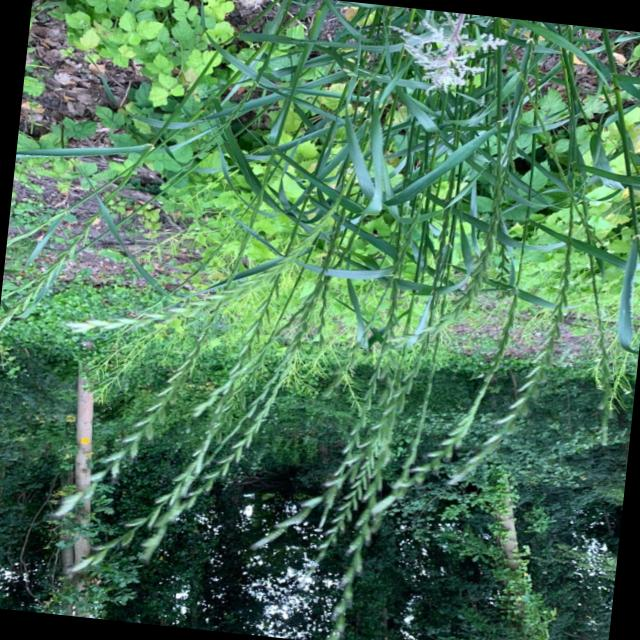Lolium: (60, 0, 336, 585), (267, 0, 497, 640), (113, 0, 357, 570), (348, 6, 582, 492)
